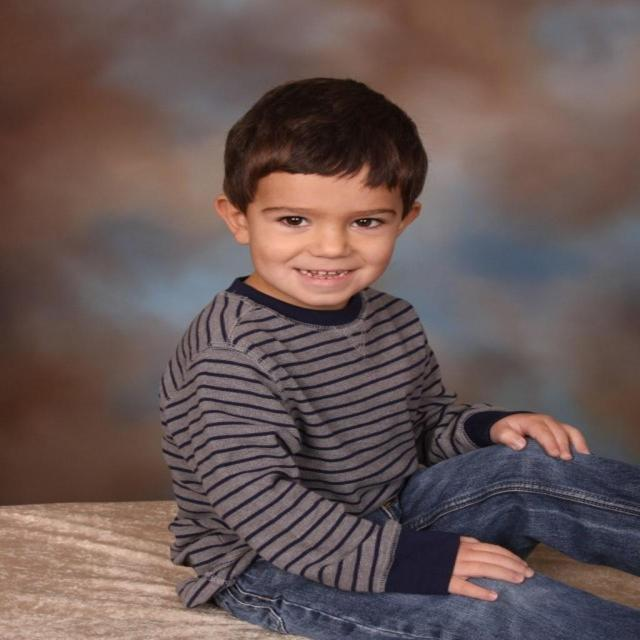Face: (233, 175, 419, 304)
